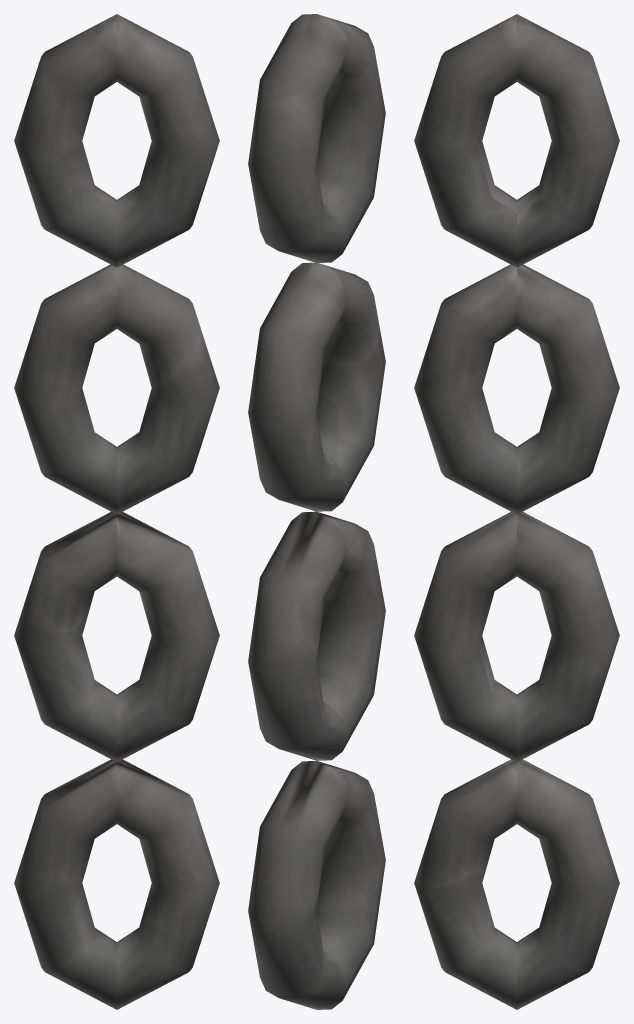
The picture shows the model from 3 angles, left to right: view 1: azimuth 90°, elevation 25°; view 2: azimuth 150°, elevation 25°; view 3: azimuth 270°, elevation 25°; orthographic projection.
Parts seen in each view (by area): view 1: Cube.1927; view 2: Cube.1927; view 3: Cube.1927.
Boxes of the visible parts, x1=… form: Cube.1927: x1=14, y1=14, x2=219, y2=1009; Cube.1927: x1=248, y1=14, x2=385, y2=1009; Cube.1927: x1=414, y1=14, x2=619, y2=1009.
Bounding box in the file's own units: 2.99 × 47.92 × 9.03.
1 material, 1 textured.
